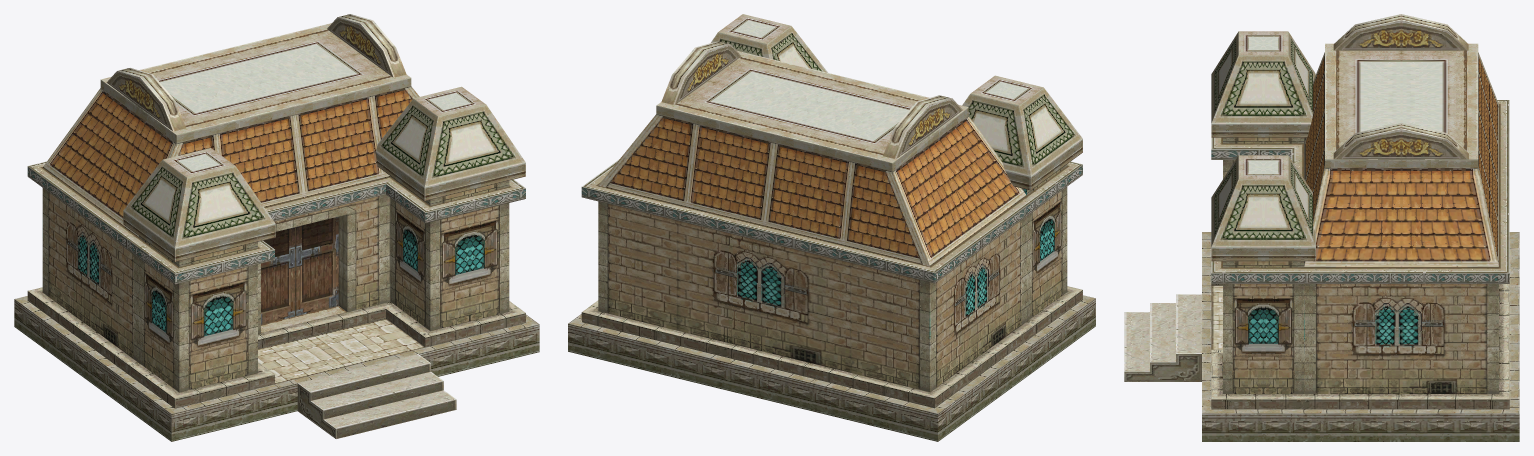
The picture shows the model from 3 angles, left to right: view 1: azimuth 30°, elevation 25°; view 2: azimuth 150°, elevation 25°; view 3: azimuth 270°, elevation 25°; orthographic projection.
Parts seen in each view (by area): view 1: geom_node_1, geom_node_0, geom_node_2; view 2: geom_node_1, geom_node_0; view 3: geom_node_0, geom_node_1, geom_node_2.
Boxes of the visible parts, <box> form: geom_node_1: <box>14,51,354,441</box>; geom_node_0: <box>218,14,539,376</box>; geom_node_2: <box>297,354,456,438</box>; geom_node_1: <box>753,75,1095,441</box>; geom_node_0: <box>568,14,850,396</box>; geom_node_0: <box>1202,101,1519,441</box>; geom_node_1: <box>1202,14,1519,322</box>; geom_node_2: <box>1124,294,1201,381</box>.
Size of the model in its own units: 7.92 by 5.68 by 7.28.
5 materials, 5 textured.
